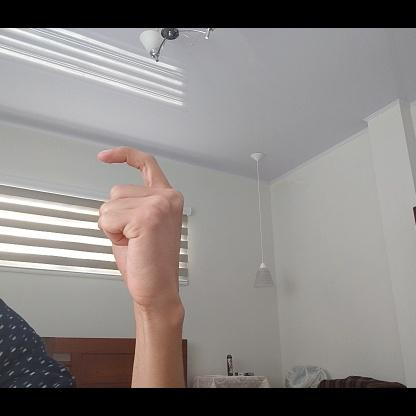X: (95, 141, 186, 313)
